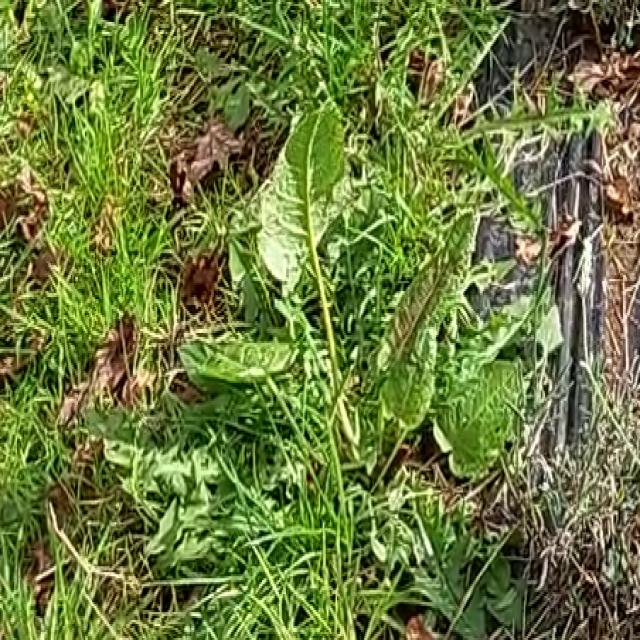organic waste: (204, 70, 542, 502)
